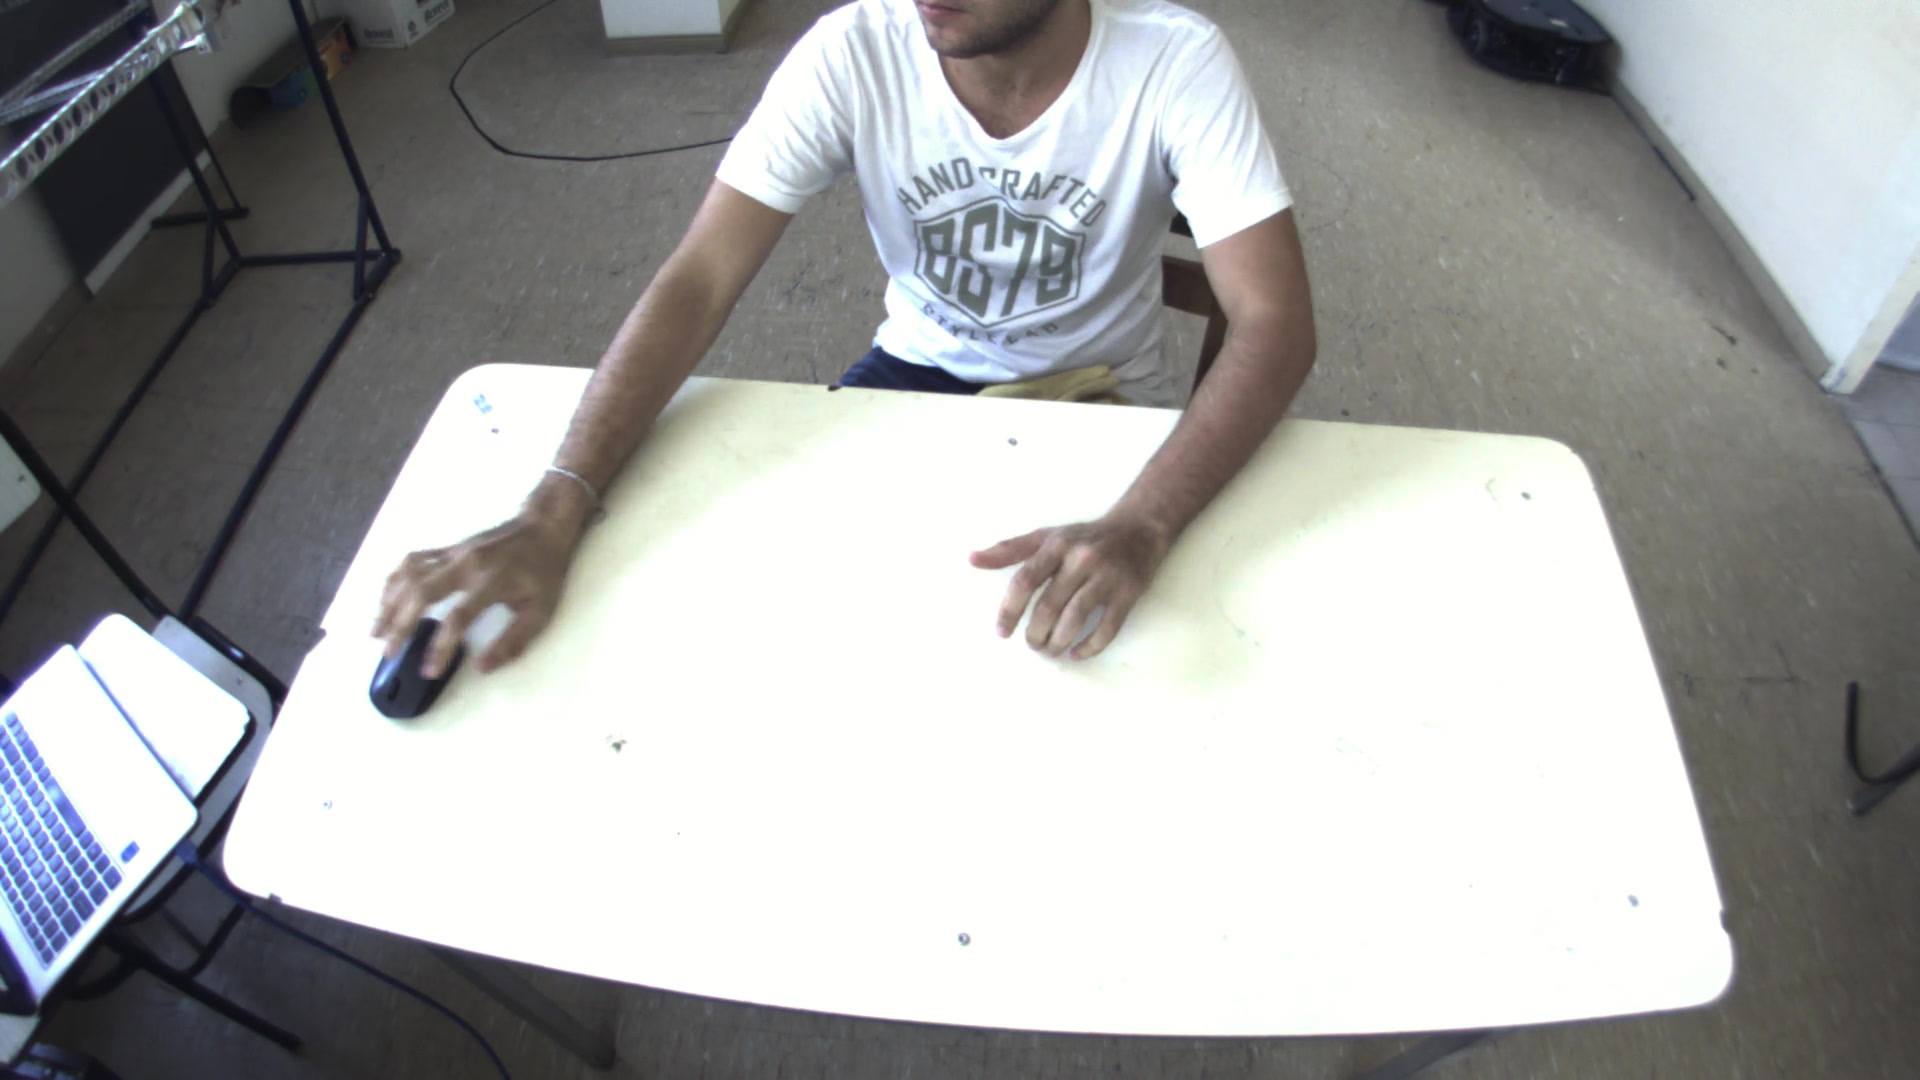hand: (369, 469, 601, 694), (964, 501, 1178, 662)
